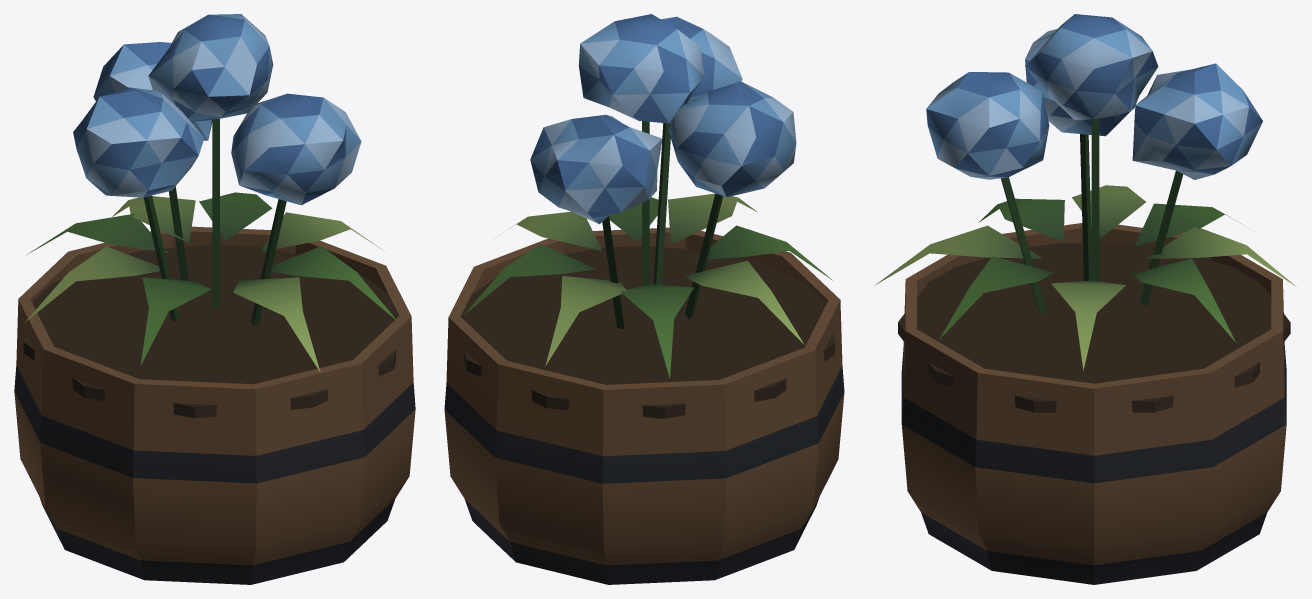
Rendered from planter_hydrangea.glb.
3 renders of one model, left to right at view 1: azimuth 30°, elevation 25°; view 2: azimuth 150°, elevation 25°; view 3: azimuth 270°, elevation 25°, orthographic.
Visible parts, largest first — view 1: isl_planter_hydrangea; view 2: isl_planter_hydrangea; view 3: isl_planter_hydrangea.
Boxes of the visible parts, x1,y1,x2,y2 form: isl_planter_hydrangea: (14,14,415,584); isl_planter_hydrangea: (444,14,844,584); isl_planter_hydrangea: (874,14,1296,584).
Size of the model in its own units: 0.6426 by 0.8589 by 0.6714.
